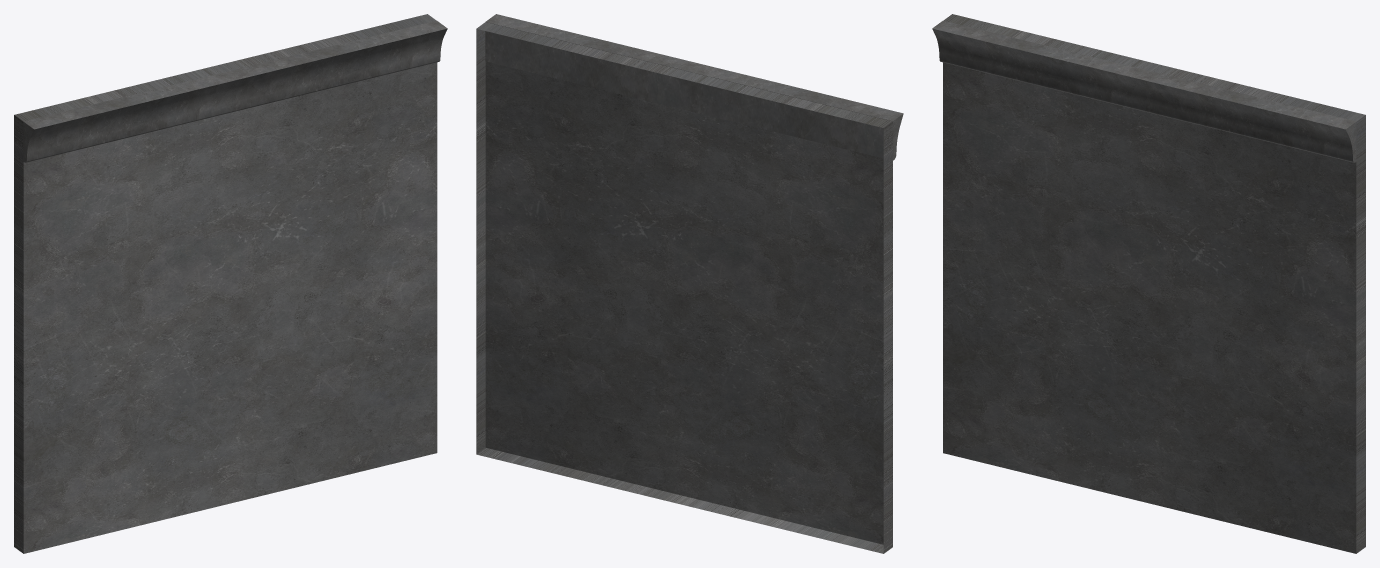
Rendered from wall.fbx.
The picture shows the model from 3 angles, left to right: view 1: azimuth 30°, elevation 25°; view 2: azimuth 150°, elevation 25°; view 3: azimuth 330°, elevation 25°; orthographic projection.
Parts seen in each view (by area): view 1: Cube.011; view 2: Cube.011; view 3: Cube.011.
Part boxes in pixels (x1=…): Cube.011: x1=14, y1=14, x2=447, y2=553; Cube.011: x1=476, y1=14, x2=903, y2=553; Cube.011: x1=932, y1=14, x2=1365, y2=553.
Size of the model in its own units: 701 by 700 by 59.27.
